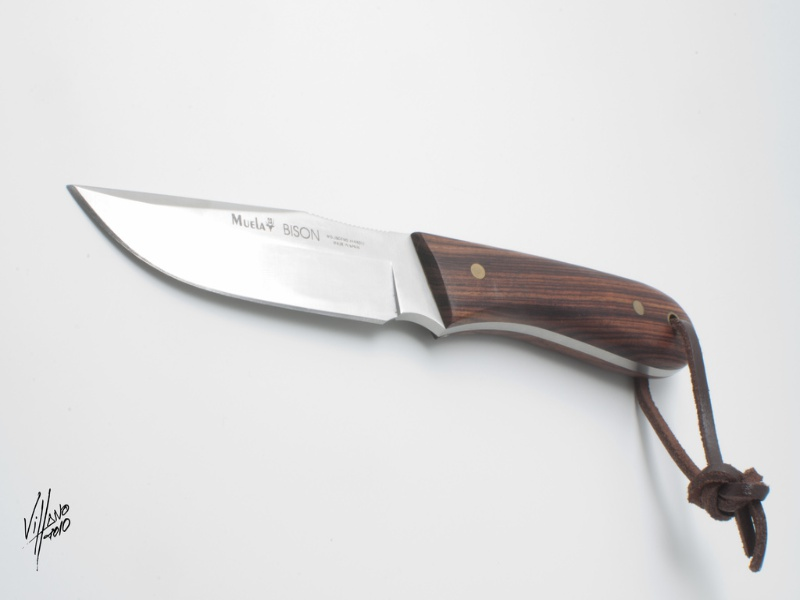wine: (228, 1, 591, 279), (612, 1, 800, 243)
